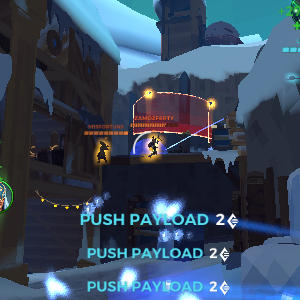model: (93, 135, 111, 169), (146, 134, 162, 164)
